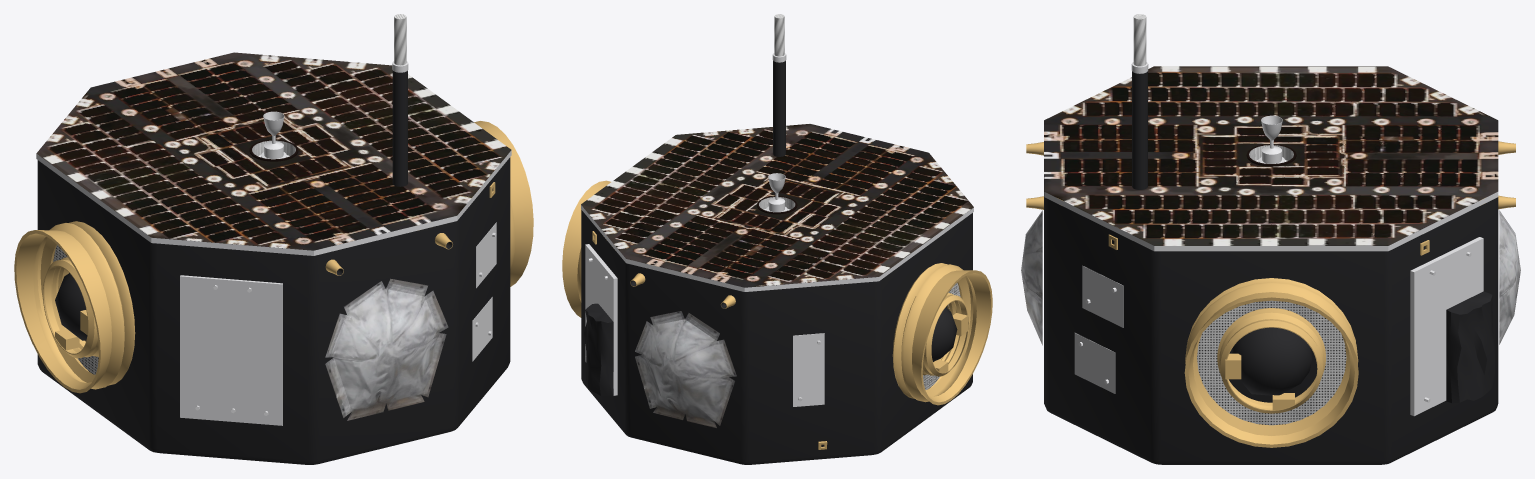
Rendered from ibex.glb.
3 renders of one model, left to right at view 1: azimuth 30°, elevation 25°; view 2: azimuth 150°, elevation 25°; view 3: azimuth 270°, elevation 25°, orthographic. The views are drawn at different scales.
Parts seen in each view (by area): view 1: shiny_panel, black_krinkle, foil_silver, foil_gold; view 2: shiny_panel, black_krinkle, foil_gold, foil_silver; view 3: shiny_panel, black_krinkle, foil_silver, foil_gold.
Part boxes in pixels (x1=…): shiny_panel: x1=36, y1=14, x2=511, y2=420; black_krinkle: x1=37, y1=70, x2=510, y2=464; foil_silver: x1=36, y1=61, x2=511, y2=425; foil_gold: x1=14, y1=121, x2=533, y2=393; shiny_panel: x1=581, y1=14, x2=973, y2=427; black_krinkle: x1=581, y1=60, x2=972, y2=464; foil_gold: x1=562, y1=180, x2=992, y2=449; foil_silver: x1=581, y1=53, x2=973, y2=406; shiny_panel: x1=1021, y1=14, x2=1520, y2=425; black_krinkle: x1=1044, y1=71, x2=1498, y2=464; foil_silver: x1=1044, y1=62, x2=1498, y2=416; foil_gold: x1=1026, y1=141, x2=1515, y2=447.
Bounding box in the file's own units: 1.18 × 0.9804 × 1.12.
Materials: 4 (1 with a texture image).
